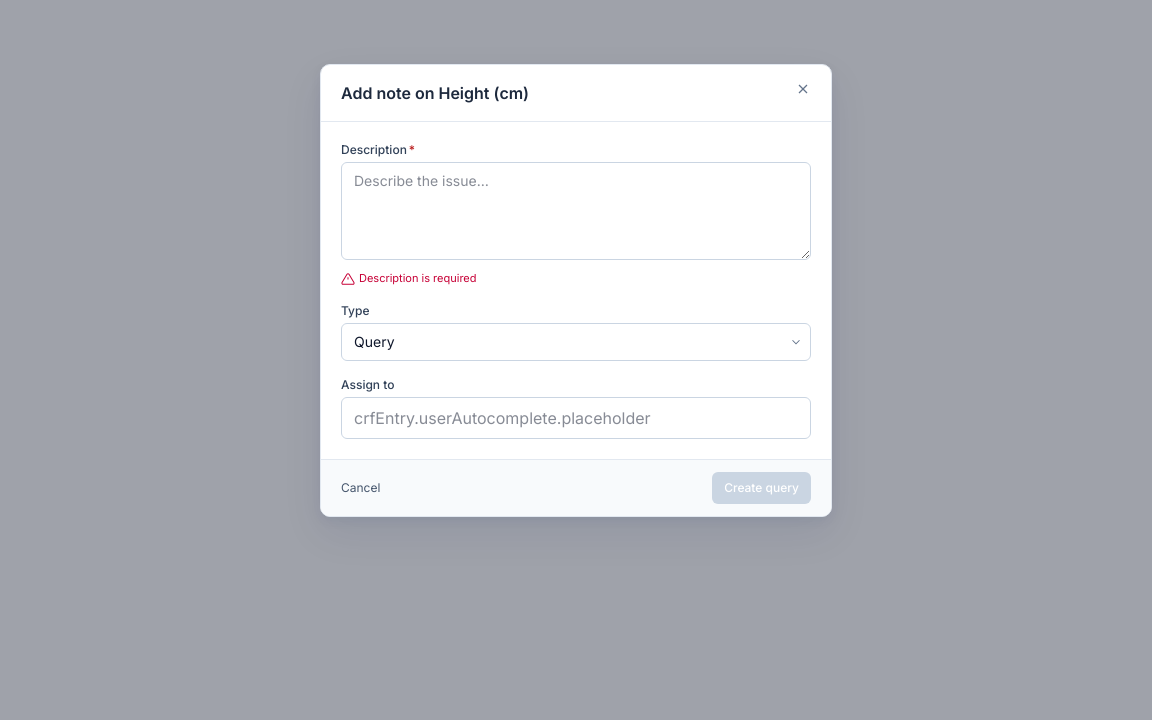
it: NewNoteDialog › keeps the dialog open + renders store.error when the backend fails
Type "something" into the text box with id "new-note-description" at [576, 211], box 341,162 -> 811,260
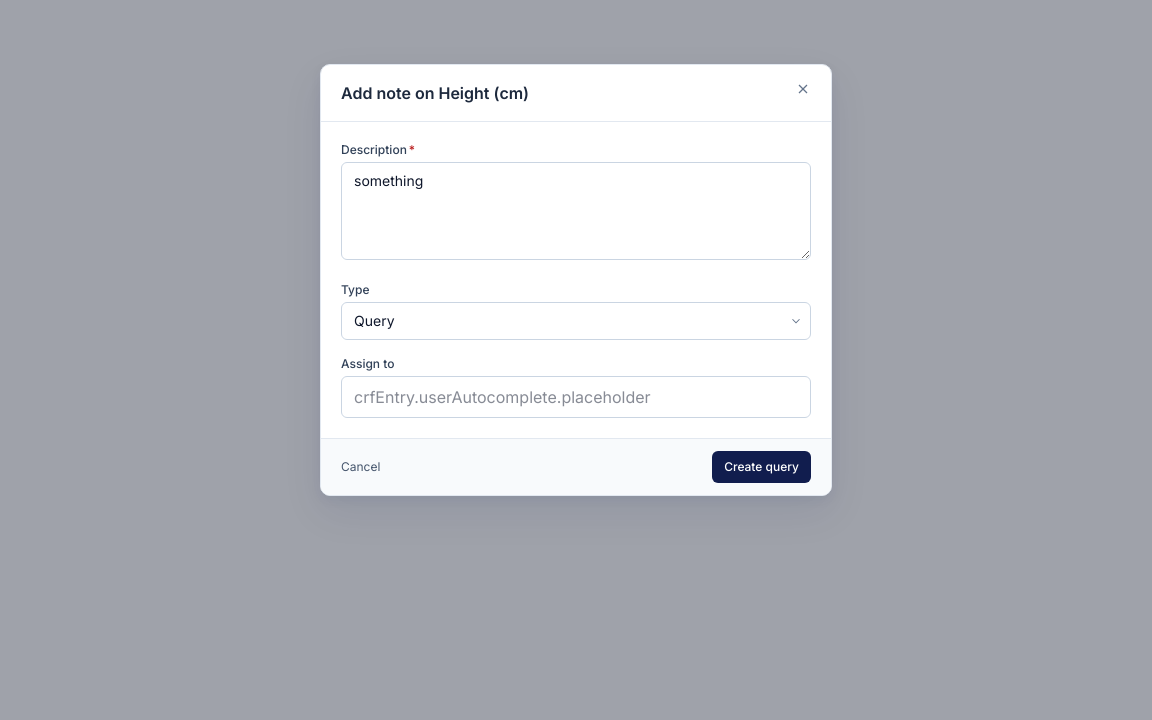
Click the button "Create query" at [762, 467], box 712,451 -> 811,483
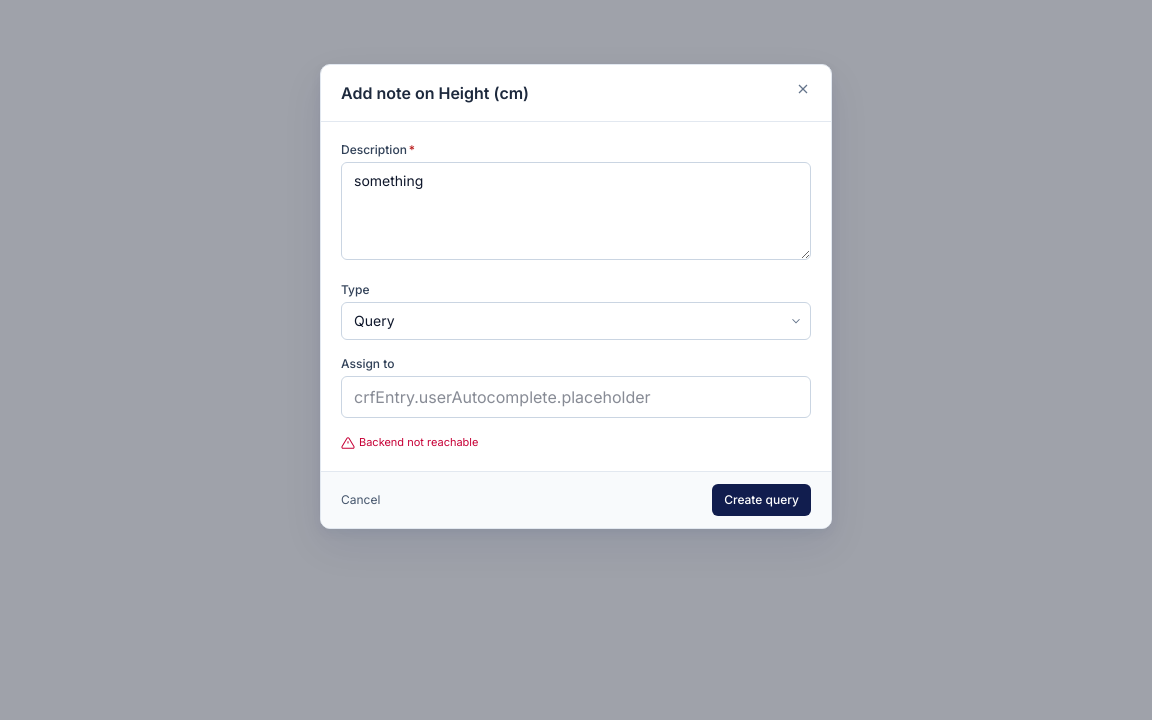
Expected: the text "Backend not reachable" is shown, 359,434 -> 478,450
